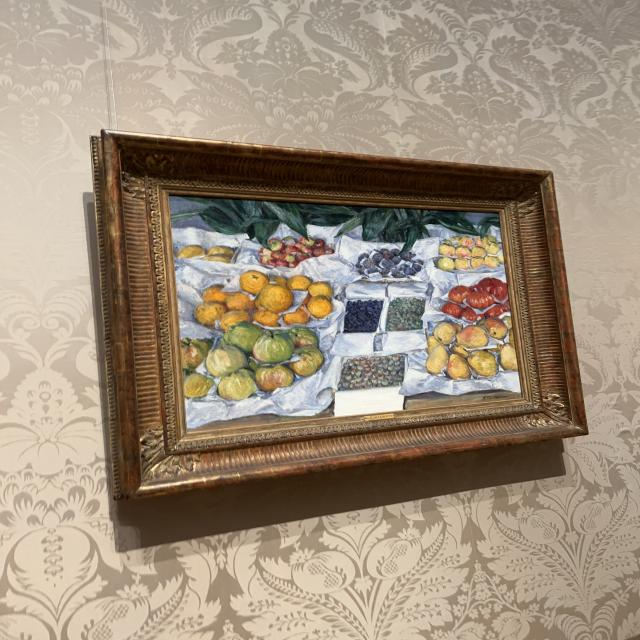fruits: (170, 196, 524, 432)
